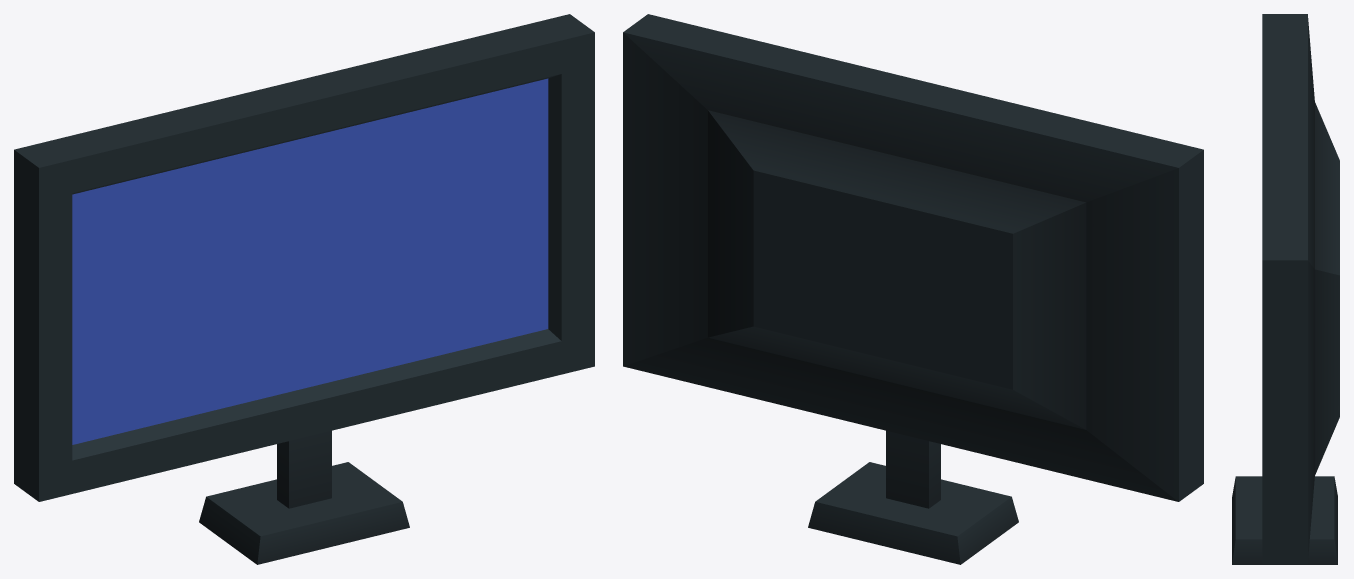
The model's file is Monitor.fbx.
The picture shows the model from 3 angles, left to right: view 1: azimuth 30°, elevation 25°; view 2: azimuth 150°, elevation 25°; view 3: azimuth 270°, elevation 25°; orthographic projection. The views are drawn at different scales.
Parts seen in each view (by area): view 1: Monitor; view 2: Monitor; view 3: Monitor.
Boxes of the visible parts, x1,y1,x2,y2 form: Monitor: (14, 14, 594, 564); Monitor: (623, 14, 1203, 564); Monitor: (1232, 14, 1339, 564).
Bounding box in the file's own units: 112 × 83.33 × 20.68.
